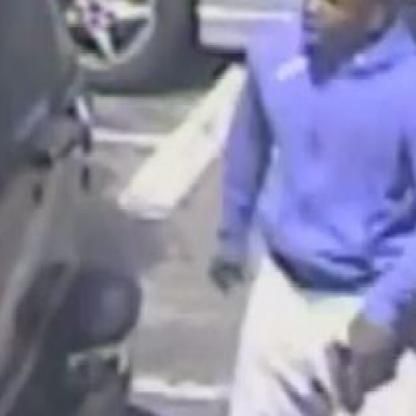gun: (310, 319, 380, 414)
